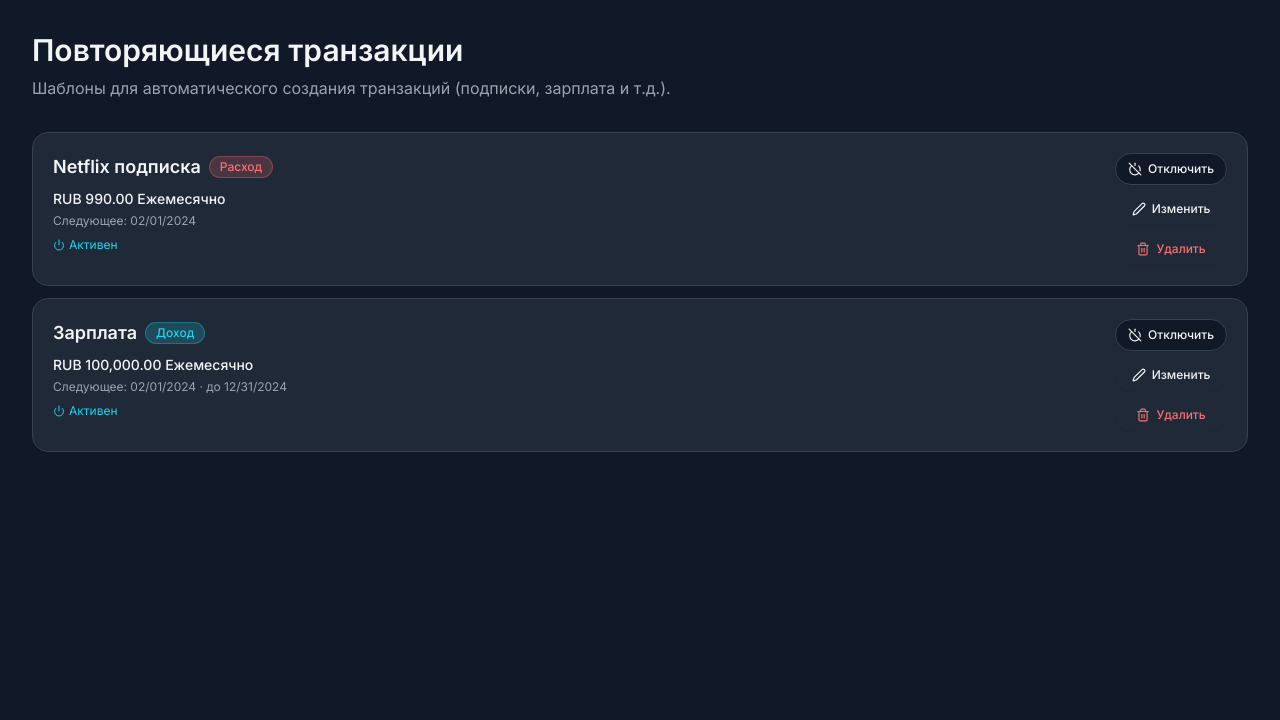
Test case: Recurring Transactions Page › can open edit modal
This screenshot has width=1280, height=720.
Expected: the heading "Netflix подписка" is shown, [53, 153, 201, 181]
Click the button "Изменить" in the row of "RUB 990.00": (1171, 209) [1115, 193, 1227, 225]
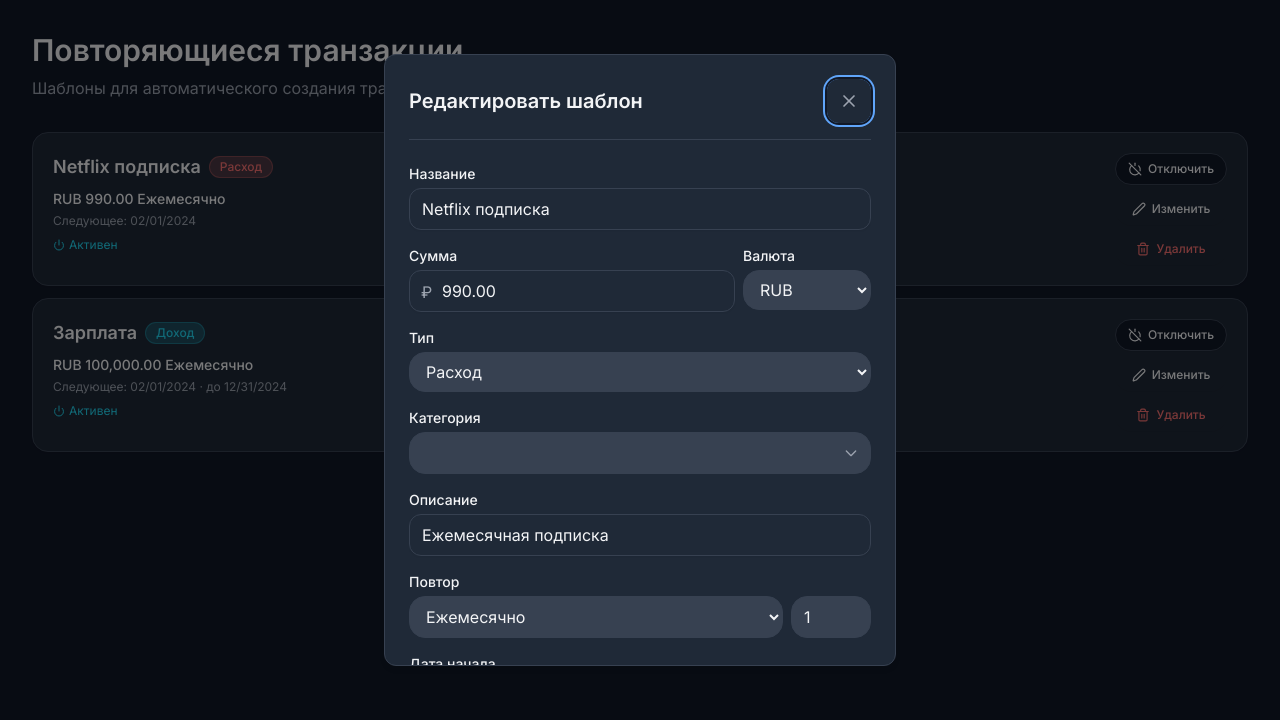
Expected: the heading "Редактировать шаблон" is shown, [409, 87, 643, 115]
